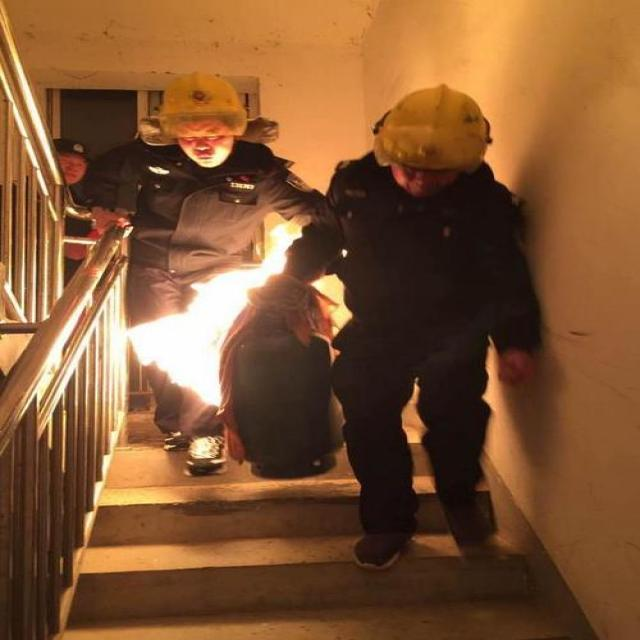Fire: (125, 274, 226, 405), (222, 222, 298, 314)
